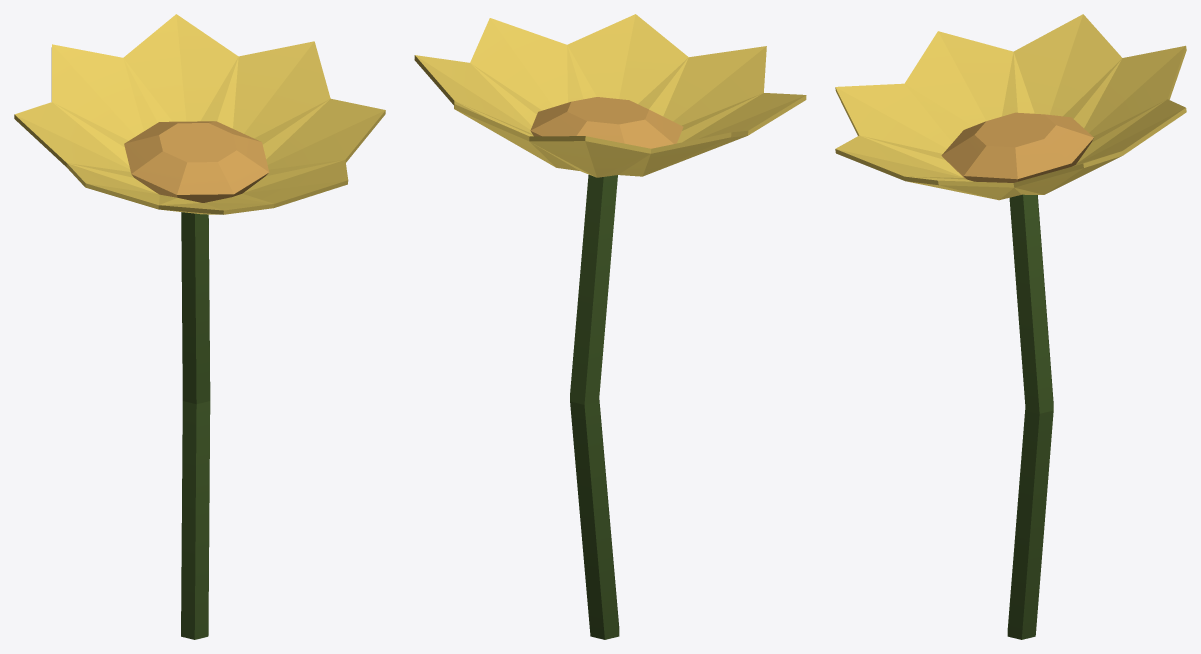
Rendered from Env_Flowers_03.obj.
3 views of the same model, side by side, from view 1: azimuth 30°, elevation 25°; view 2: azimuth 150°, elevation 25°; view 3: azimuth 270°, elevation 25° (orthographic). The views are drawn at different scales.
Parts seen in each view (by area): view 1: Env_Flowers_03; view 2: Env_Flowers_03; view 3: Env_Flowers_03.
Part boxes in pixels (left/top/right/bottom): Env_Flowers_03: left=14, top=14, right=385, bottom=639; Env_Flowers_03: left=414, top=14, right=806, bottom=639; Env_Flowers_03: left=835, top=14, right=1186, bottom=639.
Bounding box in the file's own units: 0.1726 × 0.2996 × 0.1715.
Materials: 1 (1 with a texture image).
